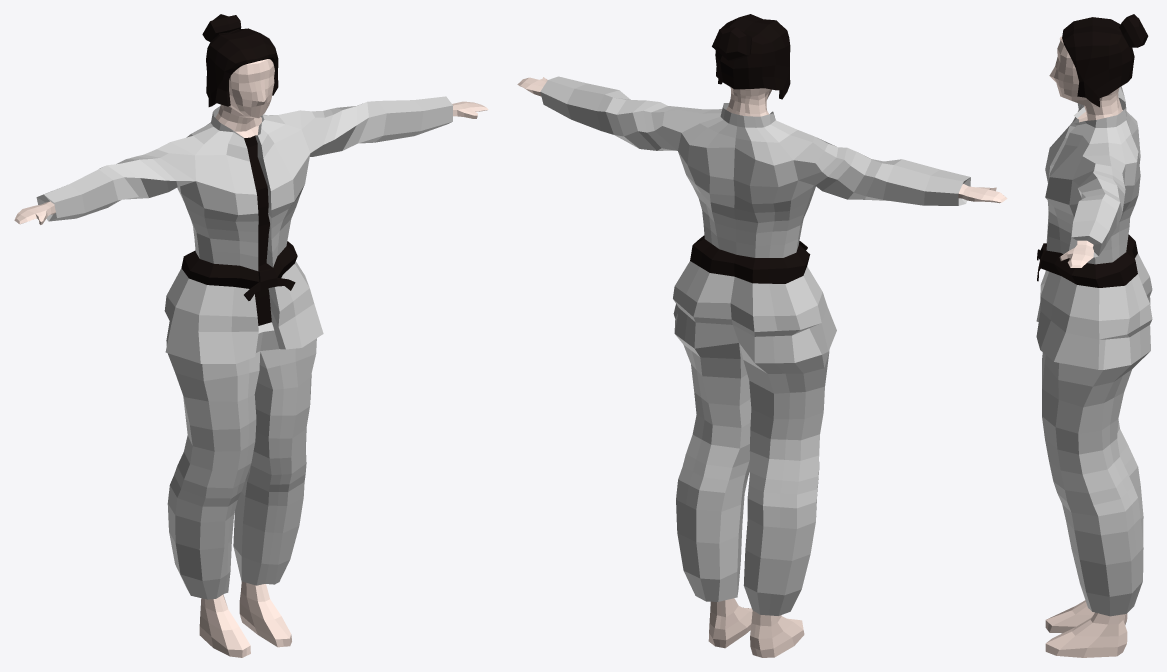
The model's file is MartialArtist.fbx.
The picture shows the model from 3 angles, left to right: view 1: azimuth 30°, elevation 25°; view 2: azimuth 150°, elevation 25°; view 3: azimuth 270°, elevation 25°; orthographic projection. The views are drawn at different scales.
Visible parts, largest first — view 1: Hair.001; view 2: Hair.001; view 3: Hair.001.
Boxes of the visible parts, <box> form: Hair.001: <box>14,14,488,657</box>; Hair.001: <box>517,14,1007,657</box>; Hair.001: <box>1036,14,1152,657</box>.
Size of the model in its own units: 356 by 440 by 74.15.
